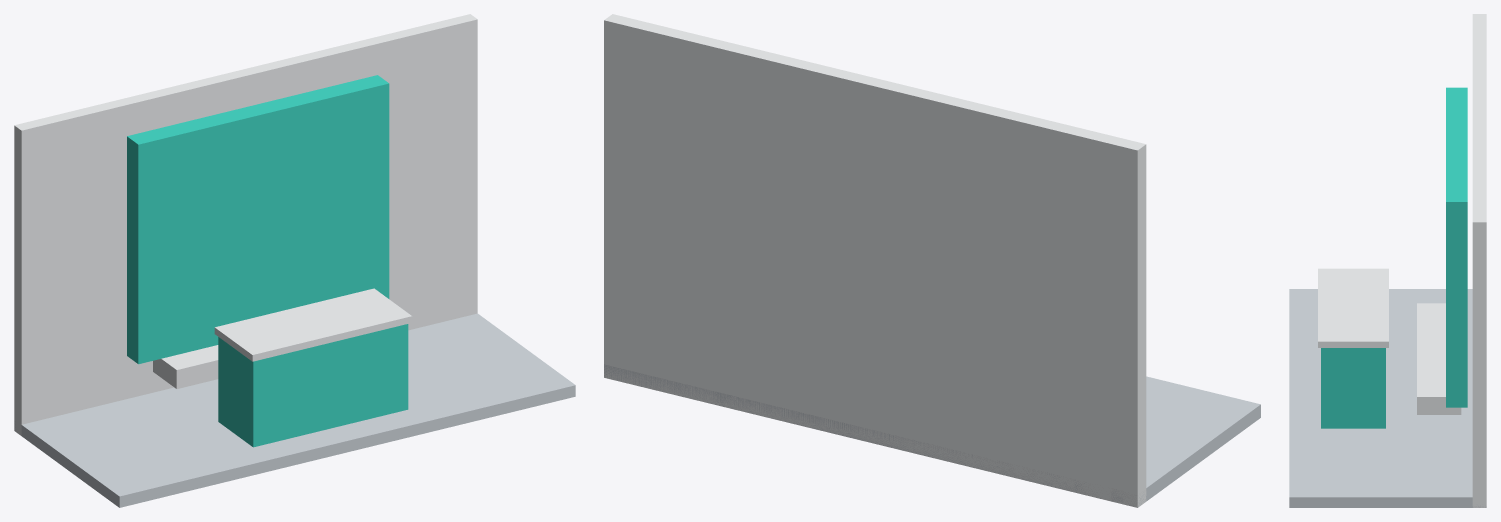
3 views of the same model, side by side, from view 1: azimuth 30°, elevation 25°; view 2: azimuth 150°, elevation 25°; view 3: azimuth 270°, elevation 25° (orthographic). The views are drawn at different scales.
Parts seen in each view (by area): view 1: Exhibition Booth Concept; view 2: Exhibition Booth Concept; view 3: Exhibition Booth Concept.
Boxes of the visible parts, x1,y1,x2,y2 form: Exhibition Booth Concept: [14, 14, 575, 507]; Exhibition Booth Concept: [604, 14, 1260, 507]; Exhibition Booth Concept: [1289, 14, 1486, 507].
Bounding box in the file's own units: 5 × 3.2 × 2.
